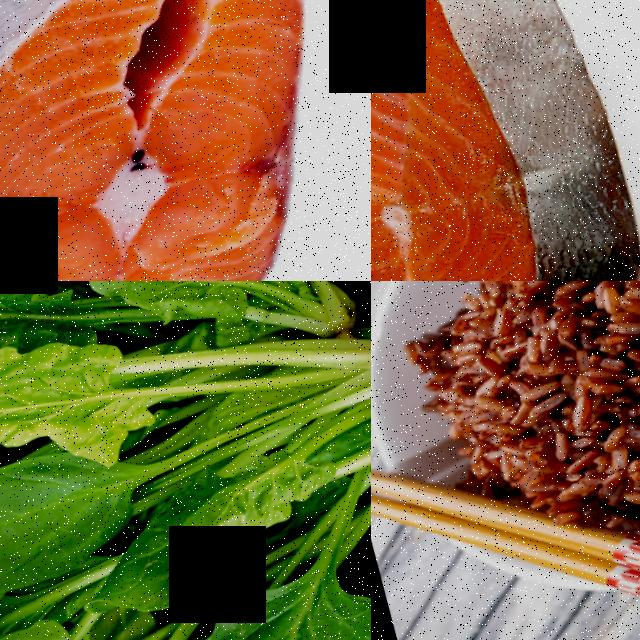red rice: (394, 281, 640, 510)
salmon: (0, 0, 371, 281), (371, 0, 640, 281)
spinach: (0, 425, 153, 615), (0, 319, 145, 465), (147, 587, 371, 640), (77, 281, 277, 328)
